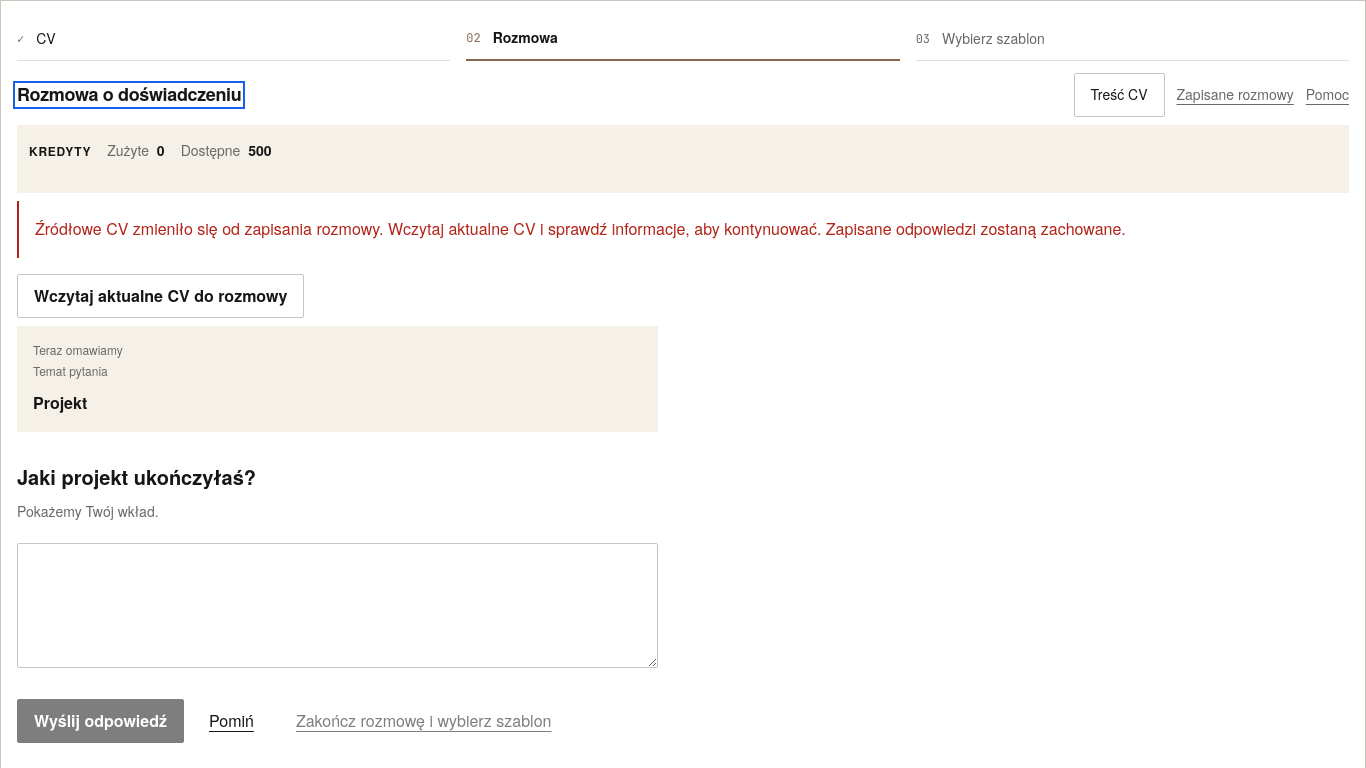
Test case: interview task navigation › protects an unsaved answer from source refresh after resuming
Step 1. Type "Jeszcze nie zapisałam tej odpowiedzi" into the text box named "Twoja odpowiedź" → (337, 606), box [17,543,658,668]
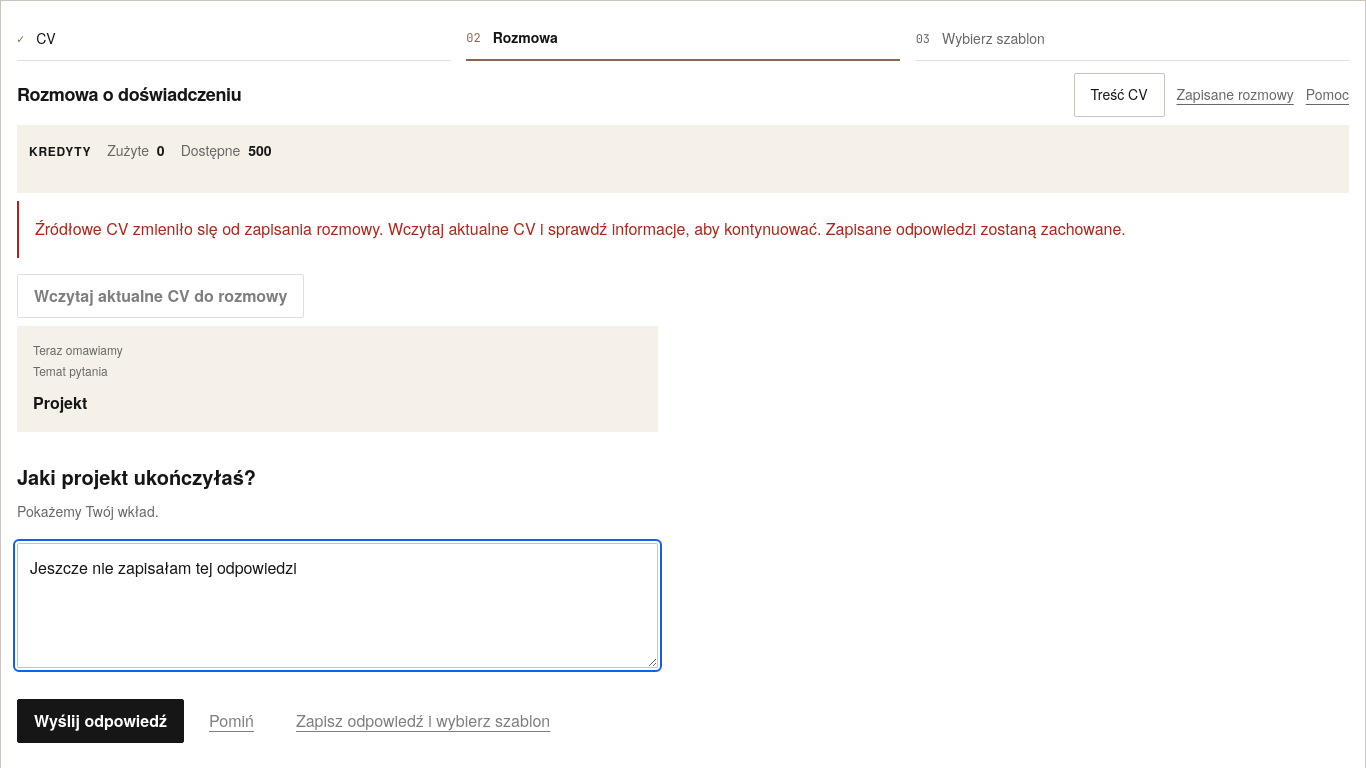
expect the button "Wczytaj aktualne CV do rozmowy" is disabled: met, box [17,274,304,318]
